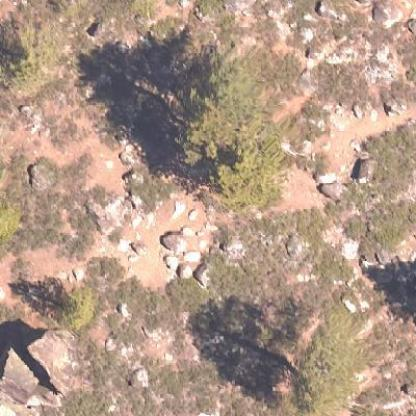tree-top: (265, 319, 370, 410), (195, 125, 296, 214), (176, 49, 255, 121), (0, 10, 56, 92), (46, 278, 95, 328)
